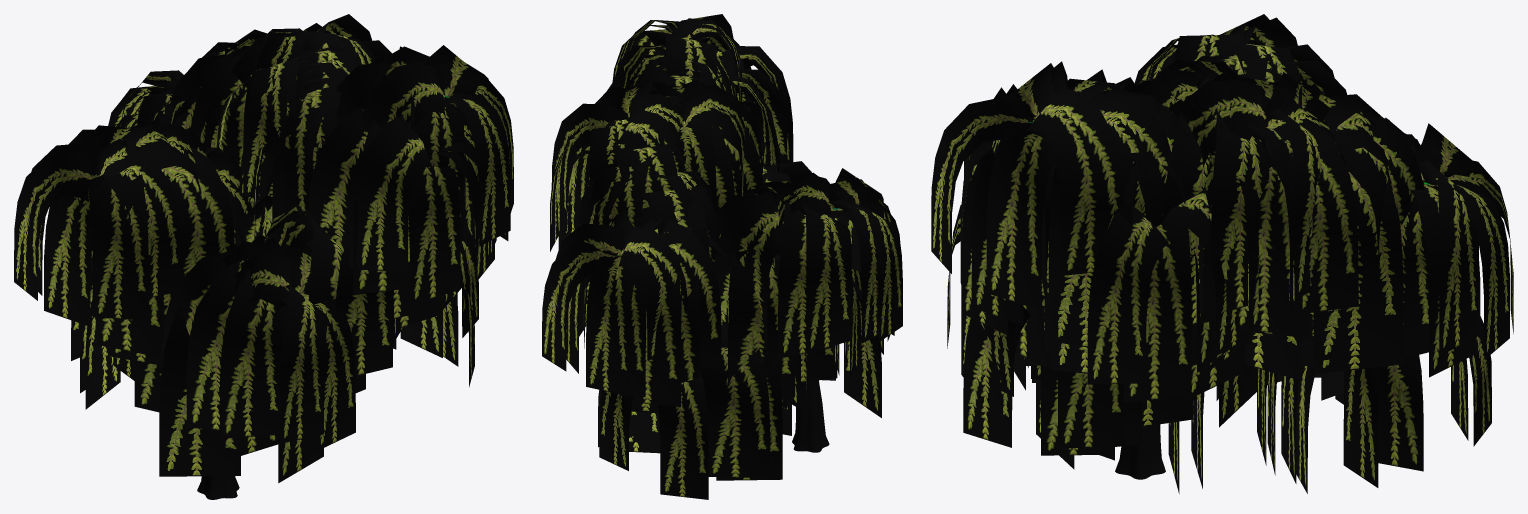
File: Willow.fbx
3 renders of one model, left to right at view 1: azimuth 30°, elevation 25°; view 2: azimuth 150°, elevation 25°; view 3: azimuth 270°, elevation 25°, orthographic. The views are drawn at different scales.
Visible parts, largest first — view 1: Tree_1, Tree_0; view 2: Tree_1, Tree_0; view 3: Tree_1, Tree_0.
Boxes of the visible parts, box(x1,y1,x2,y2) form: Tree_1: box(14, 14, 513, 483); Tree_0: box(197, 95, 449, 499); Tree_1: box(542, 14, 902, 499); Tree_0: box(618, 208, 839, 452); Tree_1: box(931, 14, 1513, 493); Tree_0: box(1027, 122, 1429, 479).
Size of the model in its own units: 347 by 335 by 360.
Materials: 1 (1 with a texture image).
